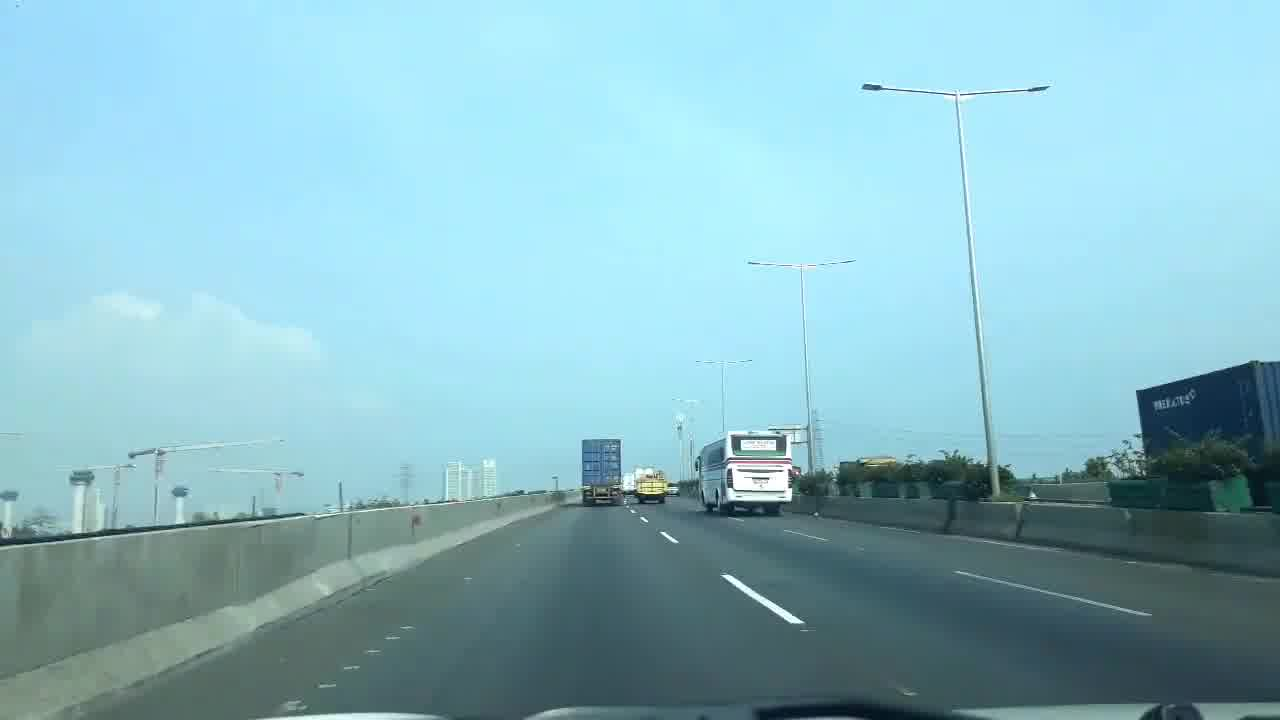plate_positive: (754, 478, 768, 483)
